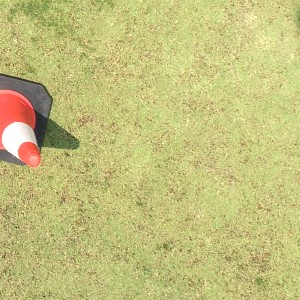traffic cone: (1, 72, 53, 167)
